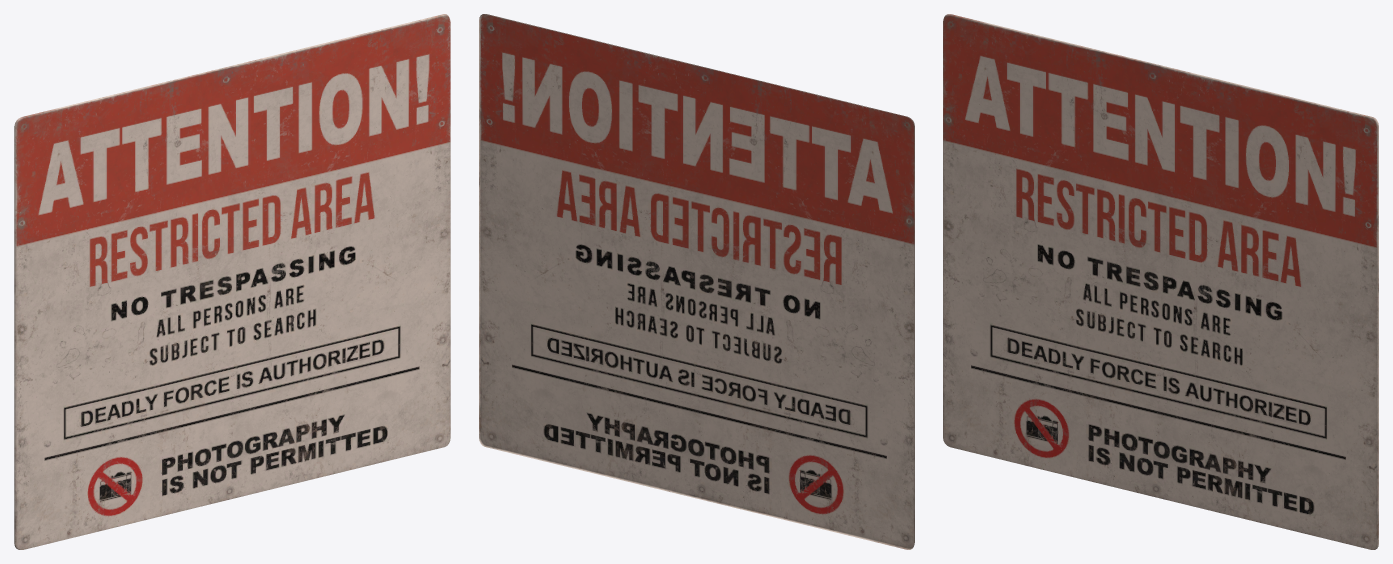
The model's file is SM_Sign_01d.glb.
The picture shows the model from 3 angles, left to right: view 1: azimuth 30°, elevation 25°; view 2: azimuth 150°, elevation 25°; view 3: azimuth 330°, elevation 25°; orthographic projection.
Parts seen in each view (by area): view 1: SM_Sign_01d; view 2: SM_Sign_01d; view 3: SM_Sign_01d.
Part boxes in pixels (<box>): SM_Sign_01d: <box>14,14,450,549</box>; SM_Sign_01d: <box>479,14,914,549</box>; SM_Sign_01d: <box>943,14,1378,549</box>.
Size of the model in its own units: 0.7645 by 0.7263 by 0.00402.
1 material, 1 textured.
